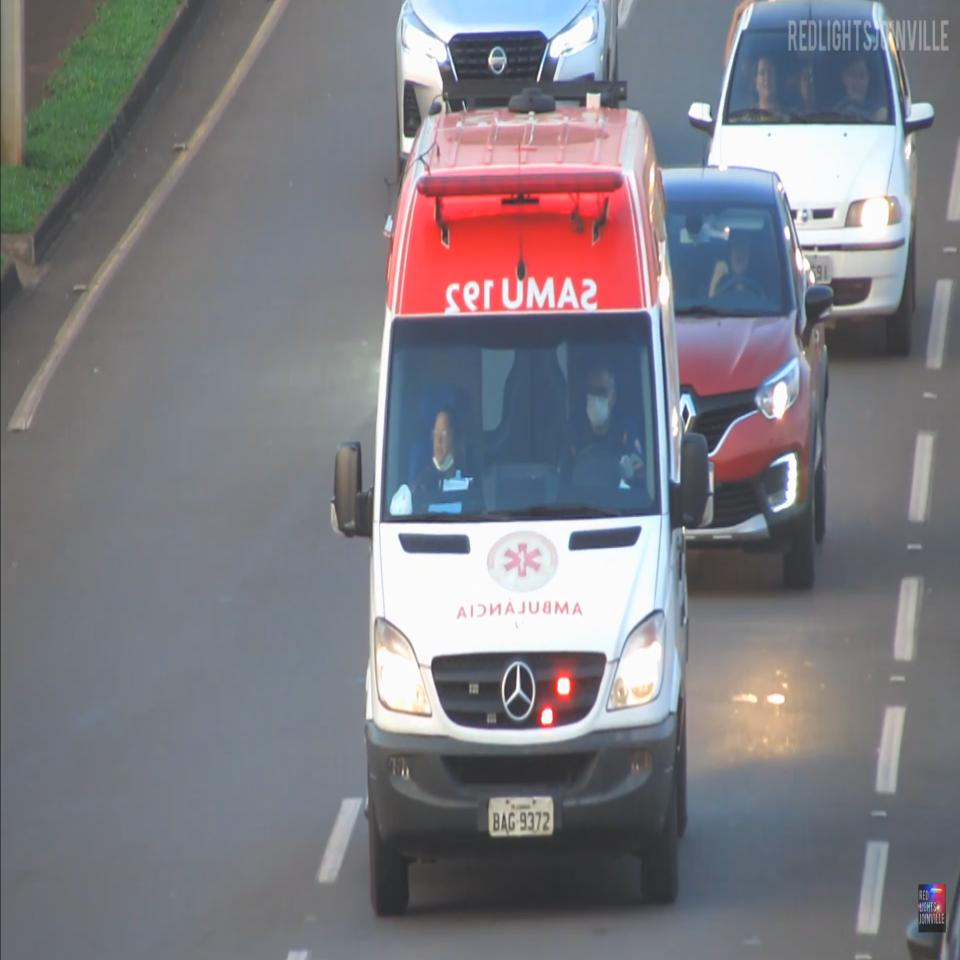ambulancia: (332, 89, 713, 922)
